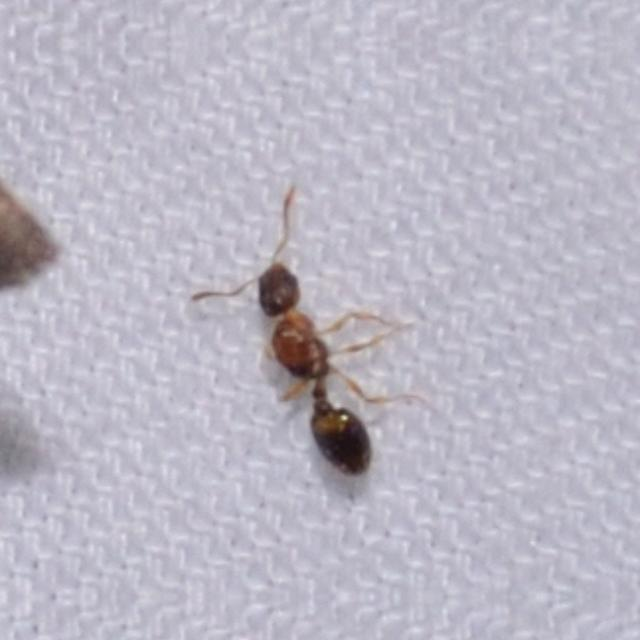Temnothorax: (196, 207, 427, 495)
